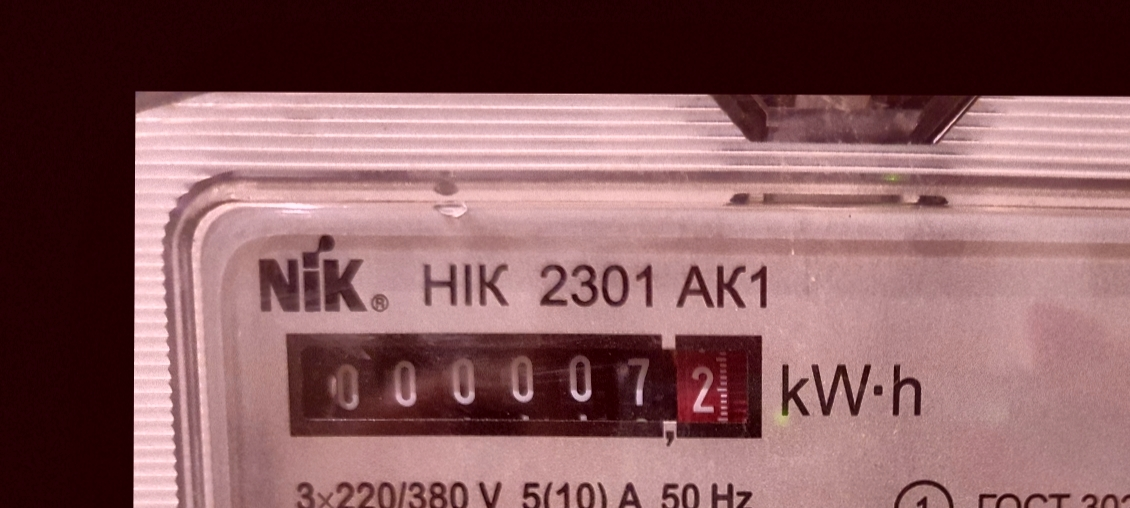0: (386, 355, 421, 407), (562, 351, 595, 404), (504, 350, 535, 404), (329, 360, 361, 411), (446, 353, 477, 405)
2: (686, 363, 716, 414)
7: (621, 353, 651, 408)
screen: (266, 313, 781, 457)
